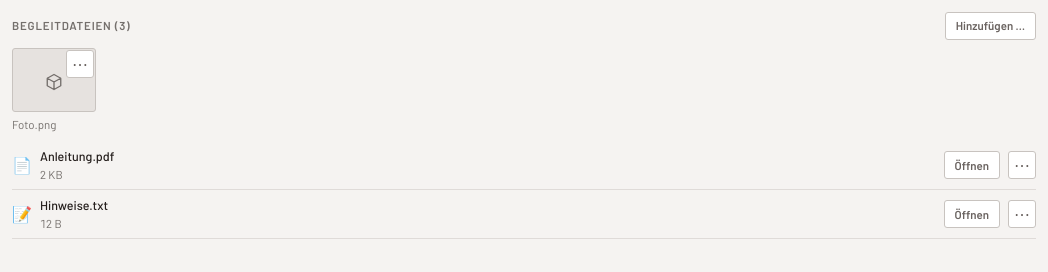
Scenario: restoring removed companions › shows the backend reason when undoing fails
Expected: the text "Anleitung.pdf" is shown, [40,148,114,164]
Click the button named "Weitere Aktionen für Anleitung.pdf": (1022, 165) [1008,151,1036,179]
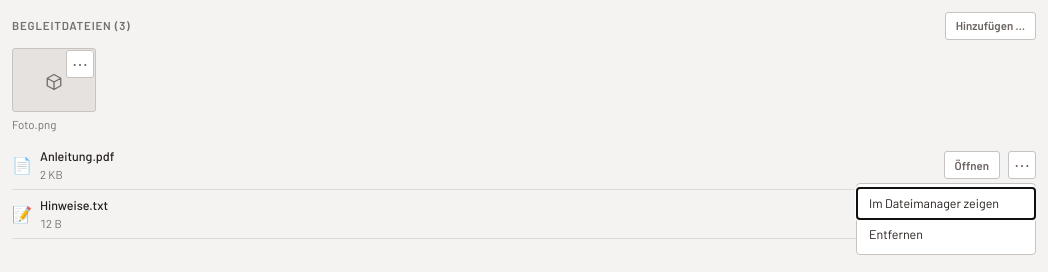
Click the menu item "Entfernen": (946, 234) [857,219,1035,250]
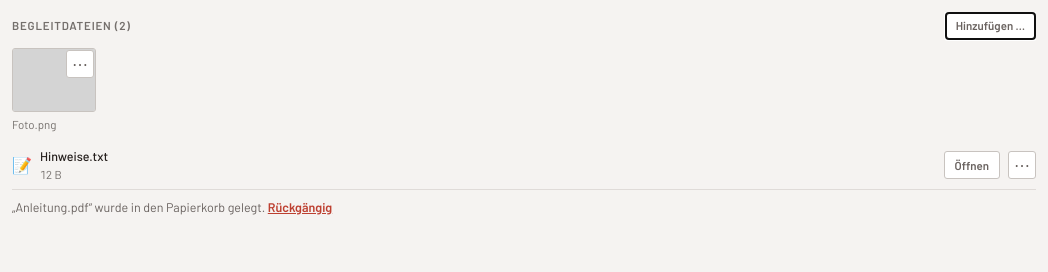
Click the button "Rückgängig": (300, 208) [268,198,332,217]
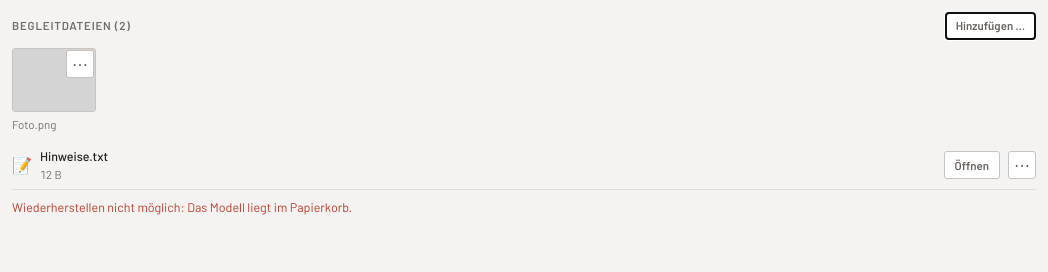
Now the message shows "Wiederherstellen nicht möglich:", box [12,199,185,215]
Now the message shows "Das Modell liegt im Papierkorb.", box [187,199,352,215]
